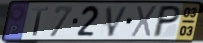2: (74, 4, 102, 40)
7: (51, 5, 75, 38)
P: (151, 4, 183, 39)
T: (31, 6, 50, 37)
V: (105, 5, 130, 38)
X: (129, 5, 159, 39)
